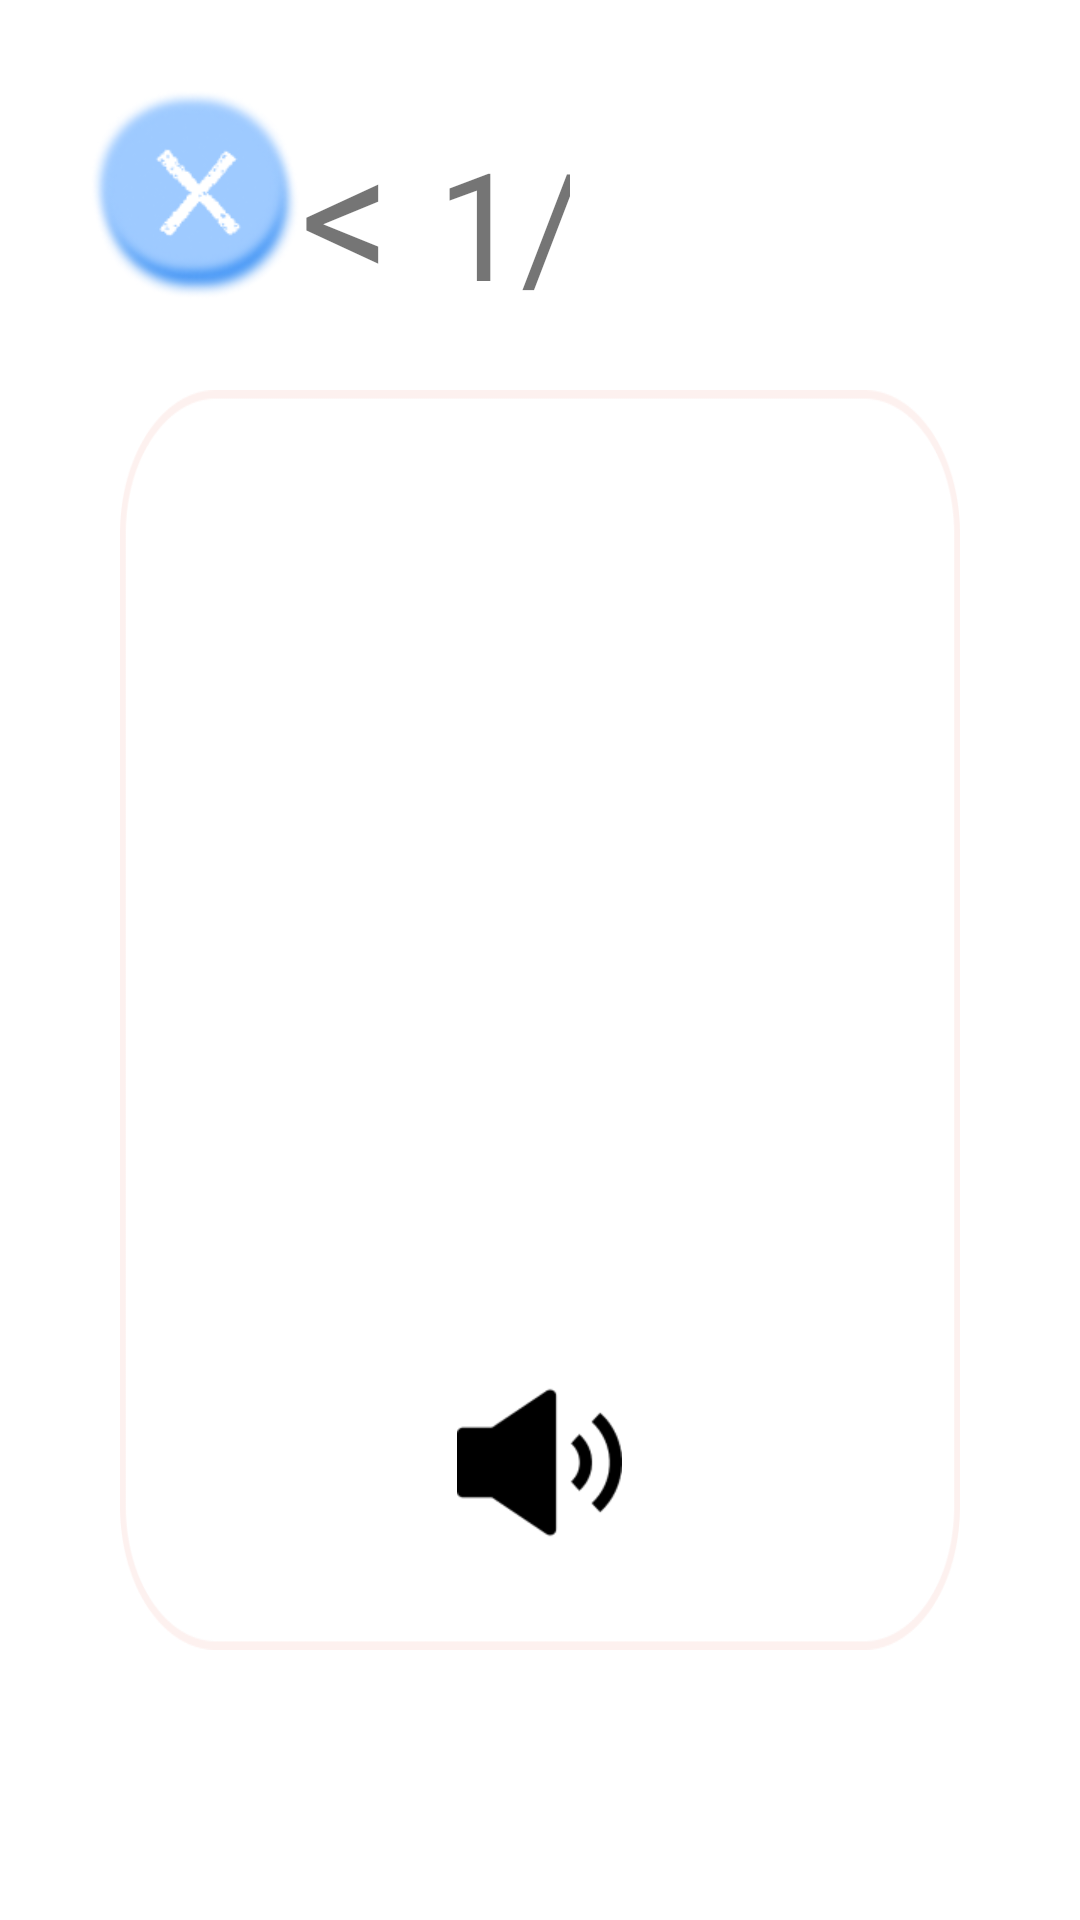

Icons on this 1080 x 1920 Android screen, each with its box as (x1, y1, x2, y2):
speaker: (457, 1389, 622, 1536)
